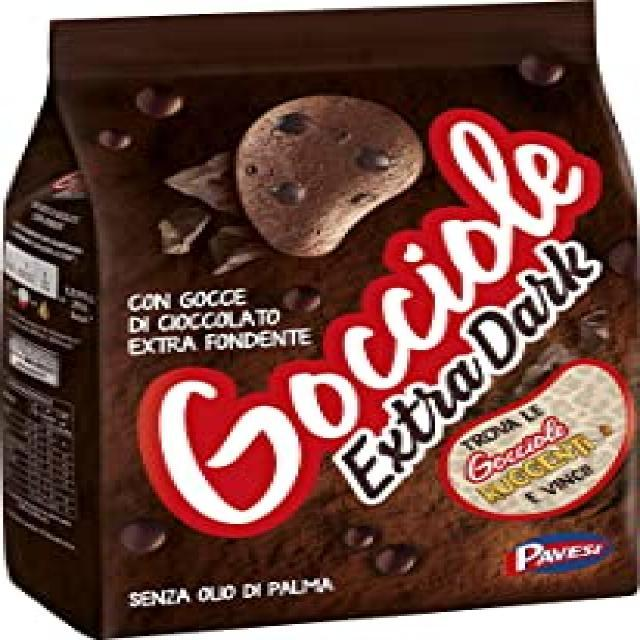Cookie: (233, 92, 425, 260)
